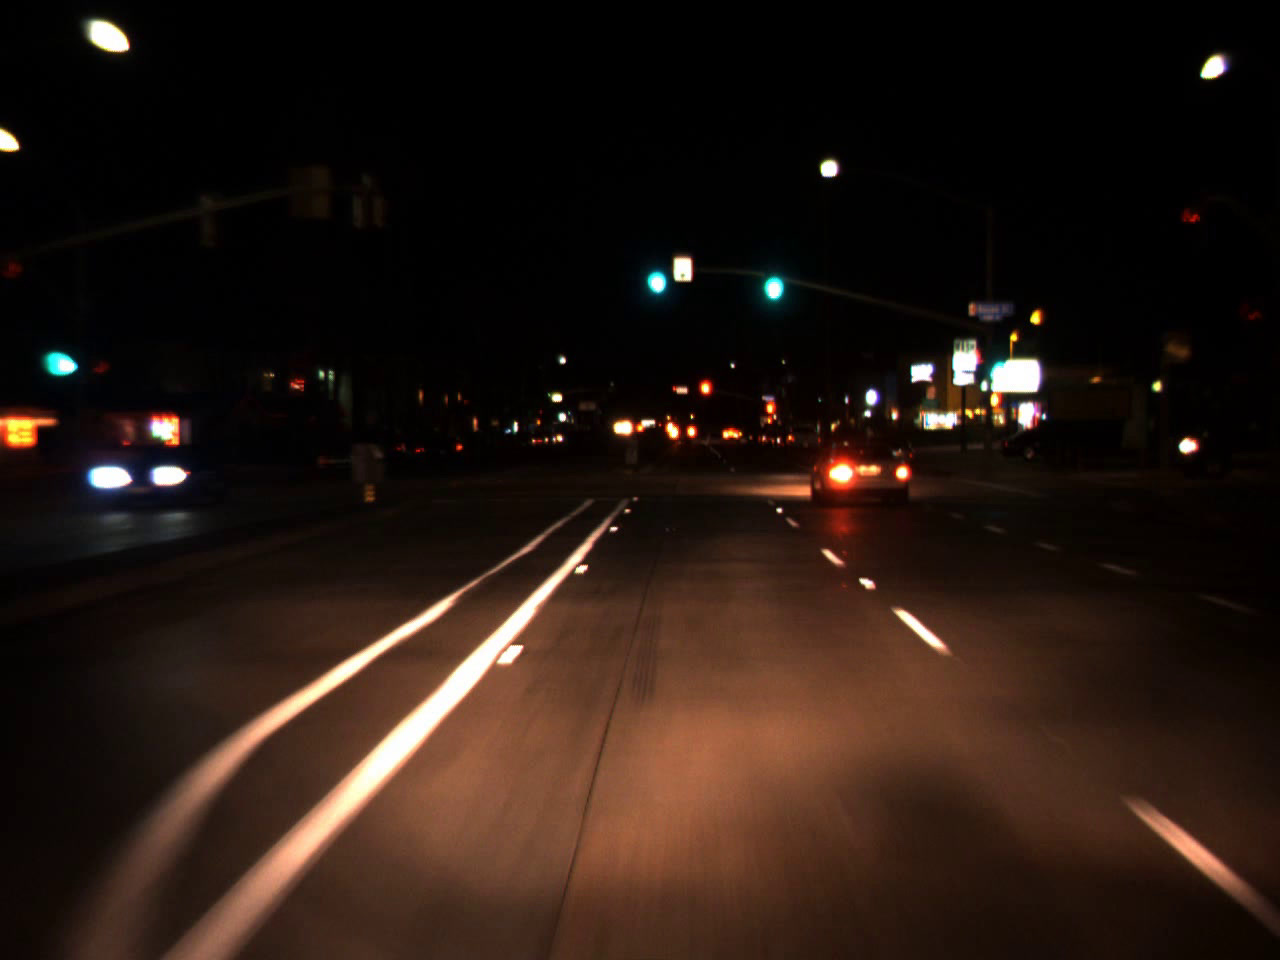go: (36, 321, 77, 384), (756, 248, 788, 308), (639, 244, 671, 301), (983, 343, 1011, 385)
stop: (698, 376, 714, 413), (764, 399, 777, 431)
